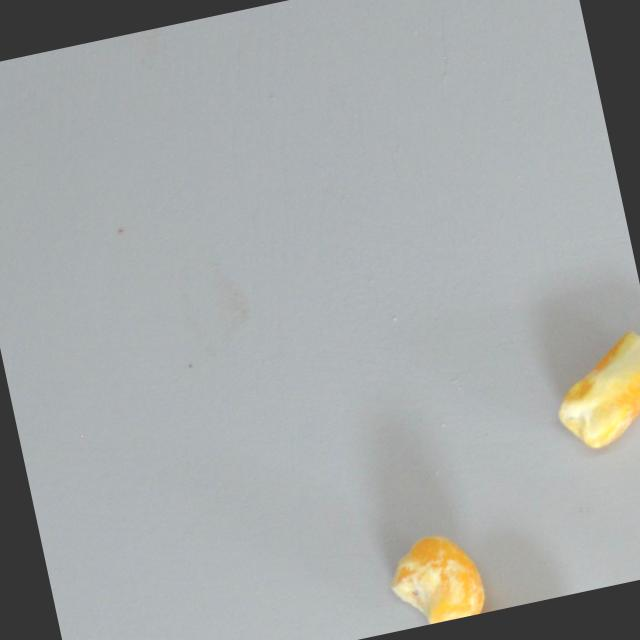pelicula: (543, 325, 640, 456)
punto_negro: (380, 523, 490, 630)
